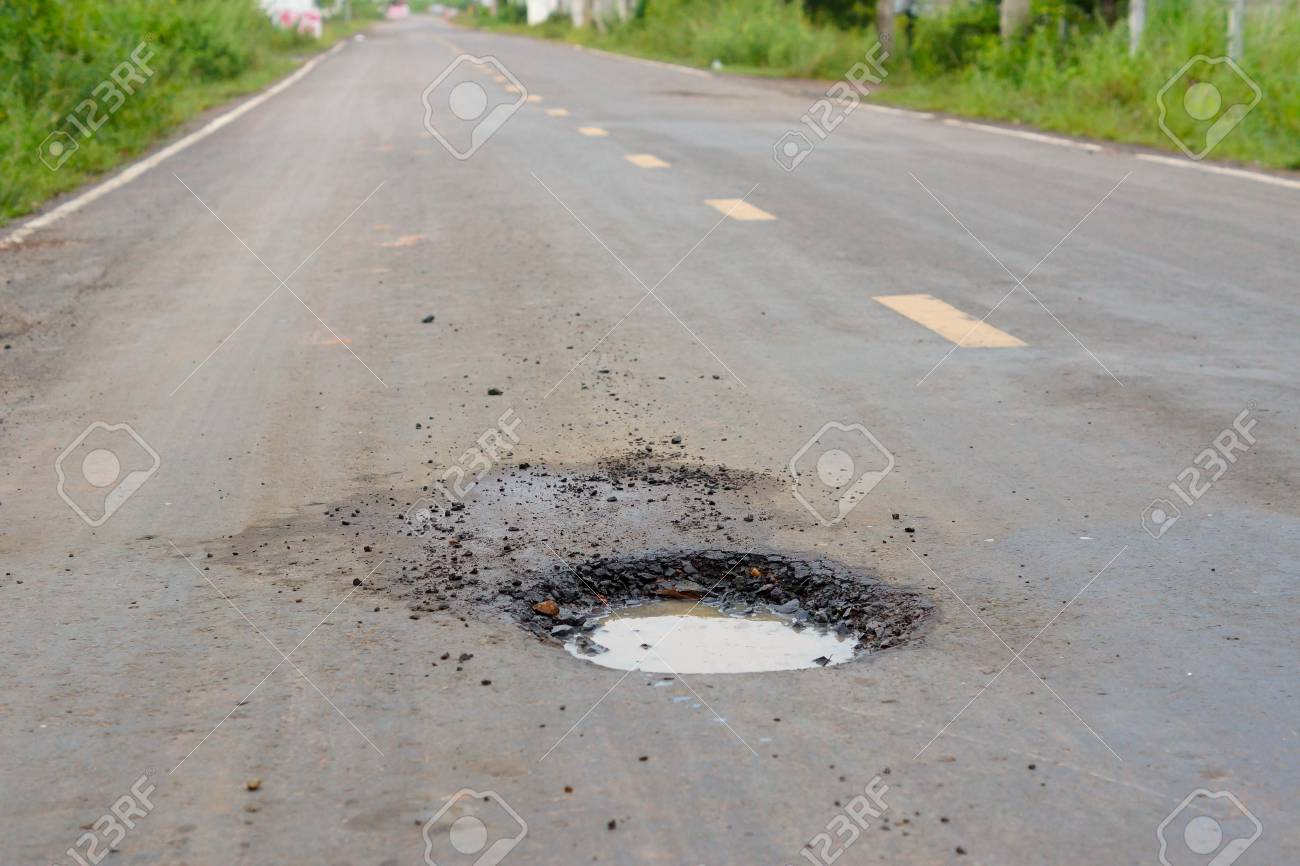Hole_in_the_road: (413, 449, 982, 761)
